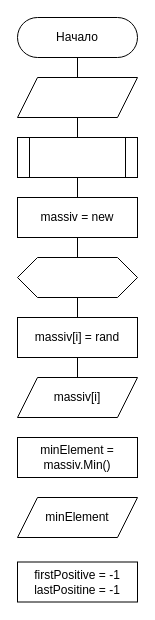
Some shapes in this 155 by 620 pixel diagram are drawn without their labels. Here are the shapes that lost their labels. From the top down, the centre of each, then its label:
At point 77,97: "Ввод N".
At point 77,157: "rand = Random()".
At point 77,277: "i = 0, n, 1".
